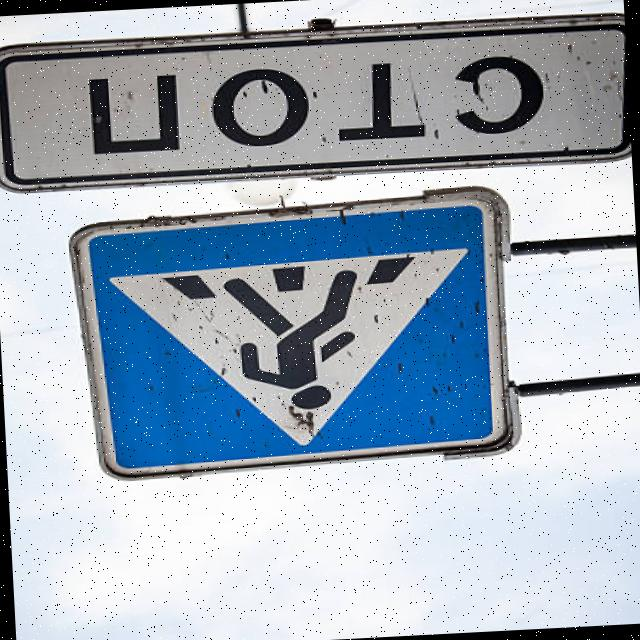crosswalk: (64, 187, 522, 484)
